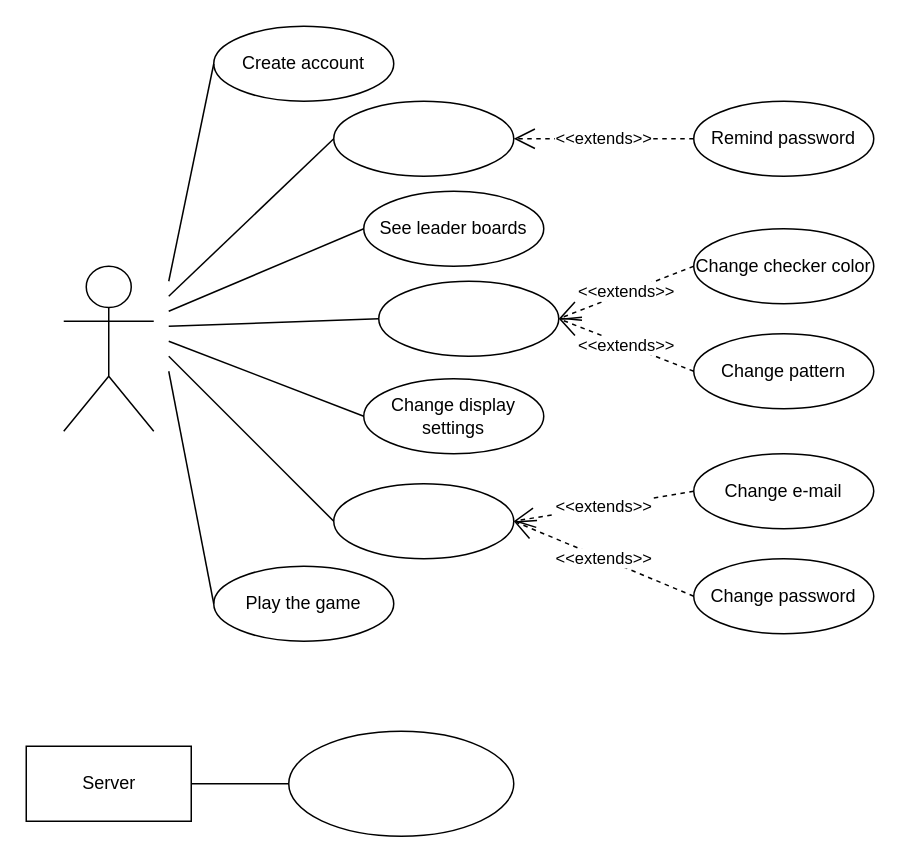
Image size: 900x863. Some labels were removed from this diagram. Each missing label, with the box of its shape:
Change account information: (332, 482, 514, 559)
Customize profile: (377, 280, 559, 356)
Finding prime factors of natural number: (287, 730, 514, 836)
Log In: (332, 100, 514, 176)
User: (62, 265, 154, 431)
